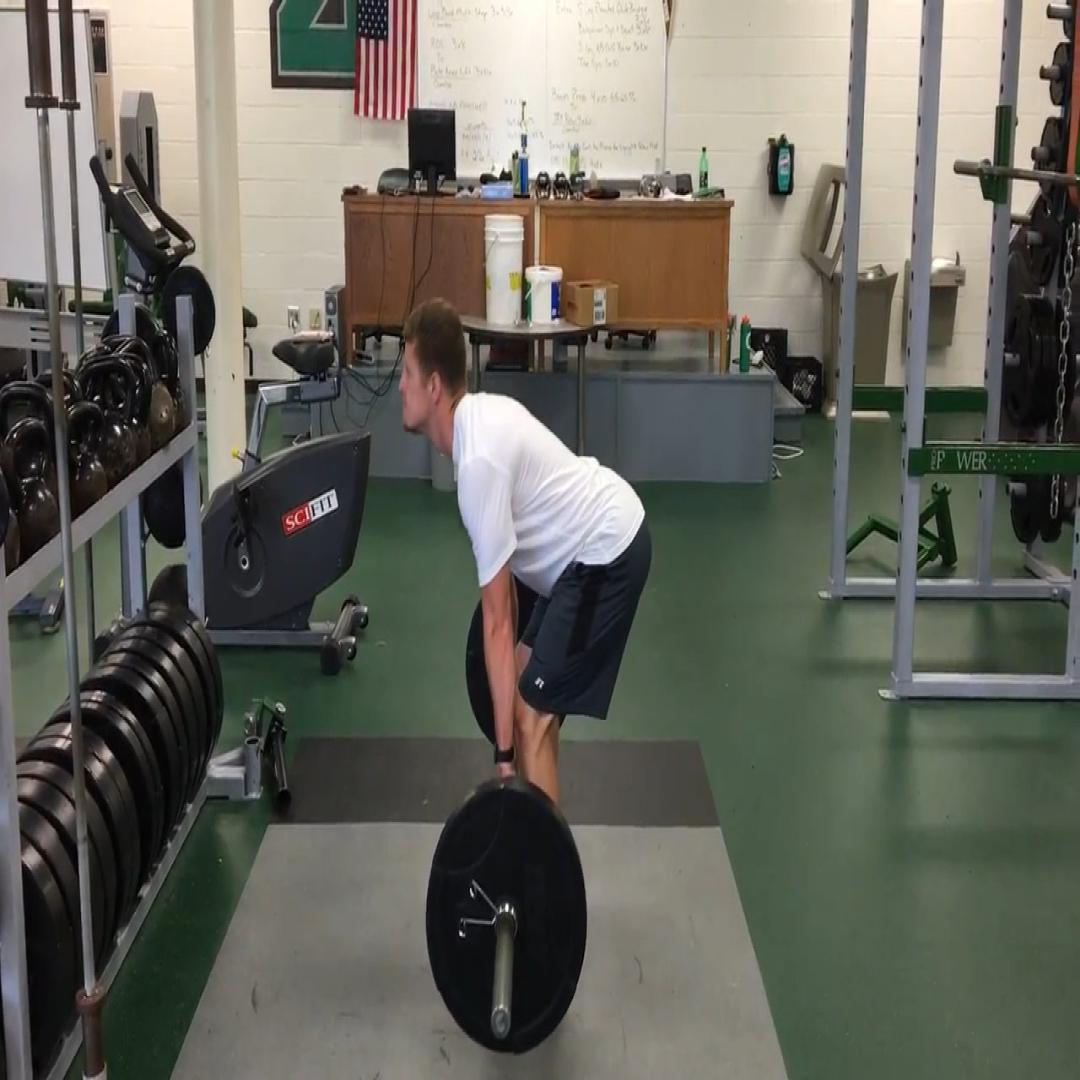Bar: (491, 1006, 511, 1040)
Barbell: (426, 786, 587, 1053)
